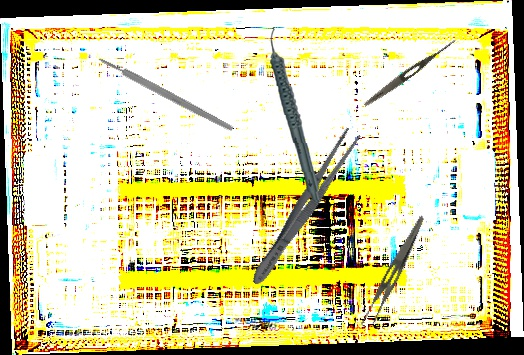Dressing Forceps: (245, 125, 364, 290), (358, 209, 426, 333), (362, 35, 458, 110)
Handpiece: (268, 25, 322, 204)
Scalpel Handle: (97, 54, 235, 134)
